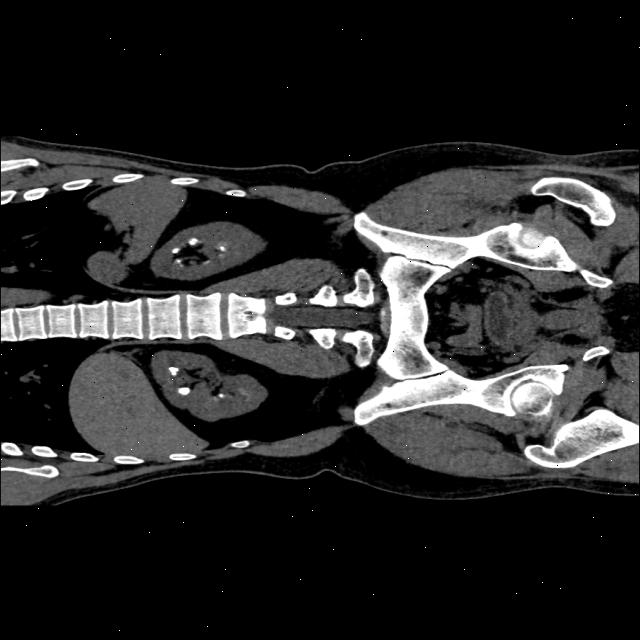kidneystone: (171, 246, 184, 258), (178, 386, 191, 395), (188, 236, 201, 245), (168, 366, 178, 375)
